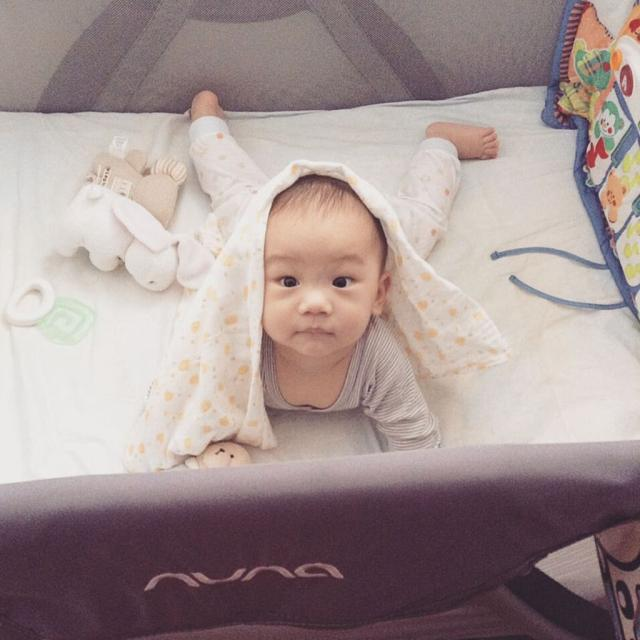Person: (186, 87, 499, 453)
